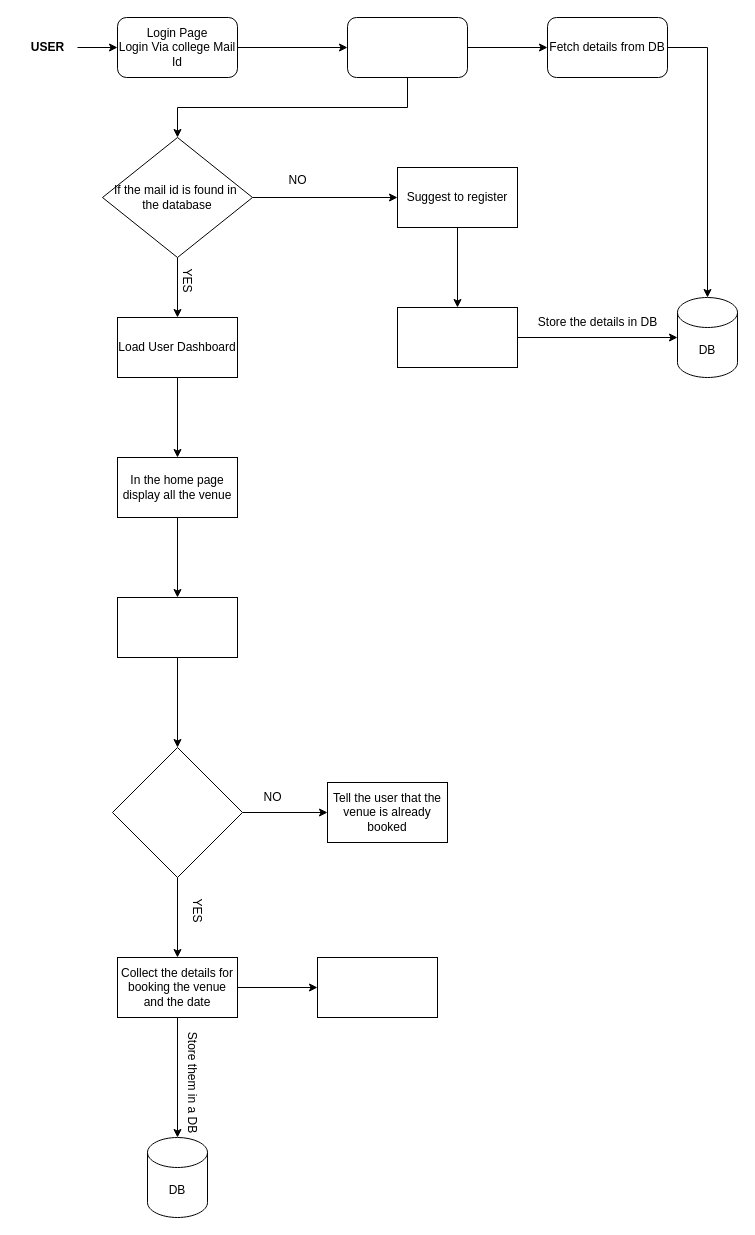
This 755x1235 diagram has some shape labels left out. Here are the shapes that lost their labels. From the top down, the centre of each, then its label:
(407,47): Authendication Via Google Id
(457,337): In registeration page collect the detail of the users
(177,627): Avail the option for sort them based on Availability
(177,812): If the venue is available
(377,987): After Booking the slot notify the admin
